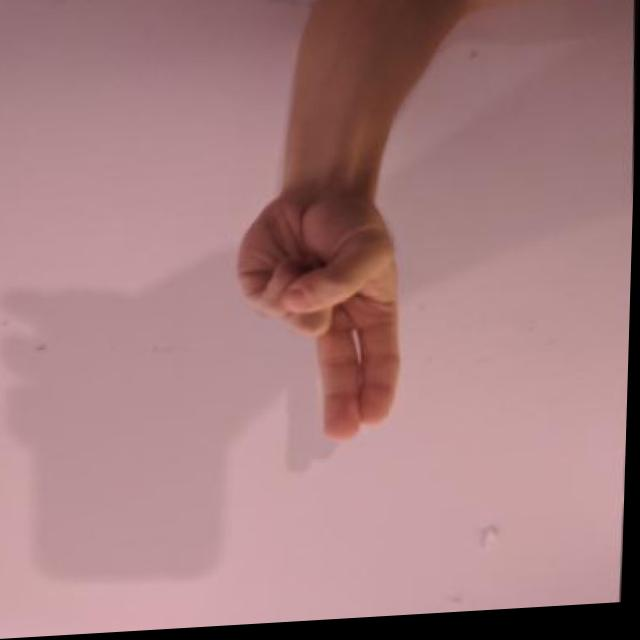U: (223, 178, 427, 459)
